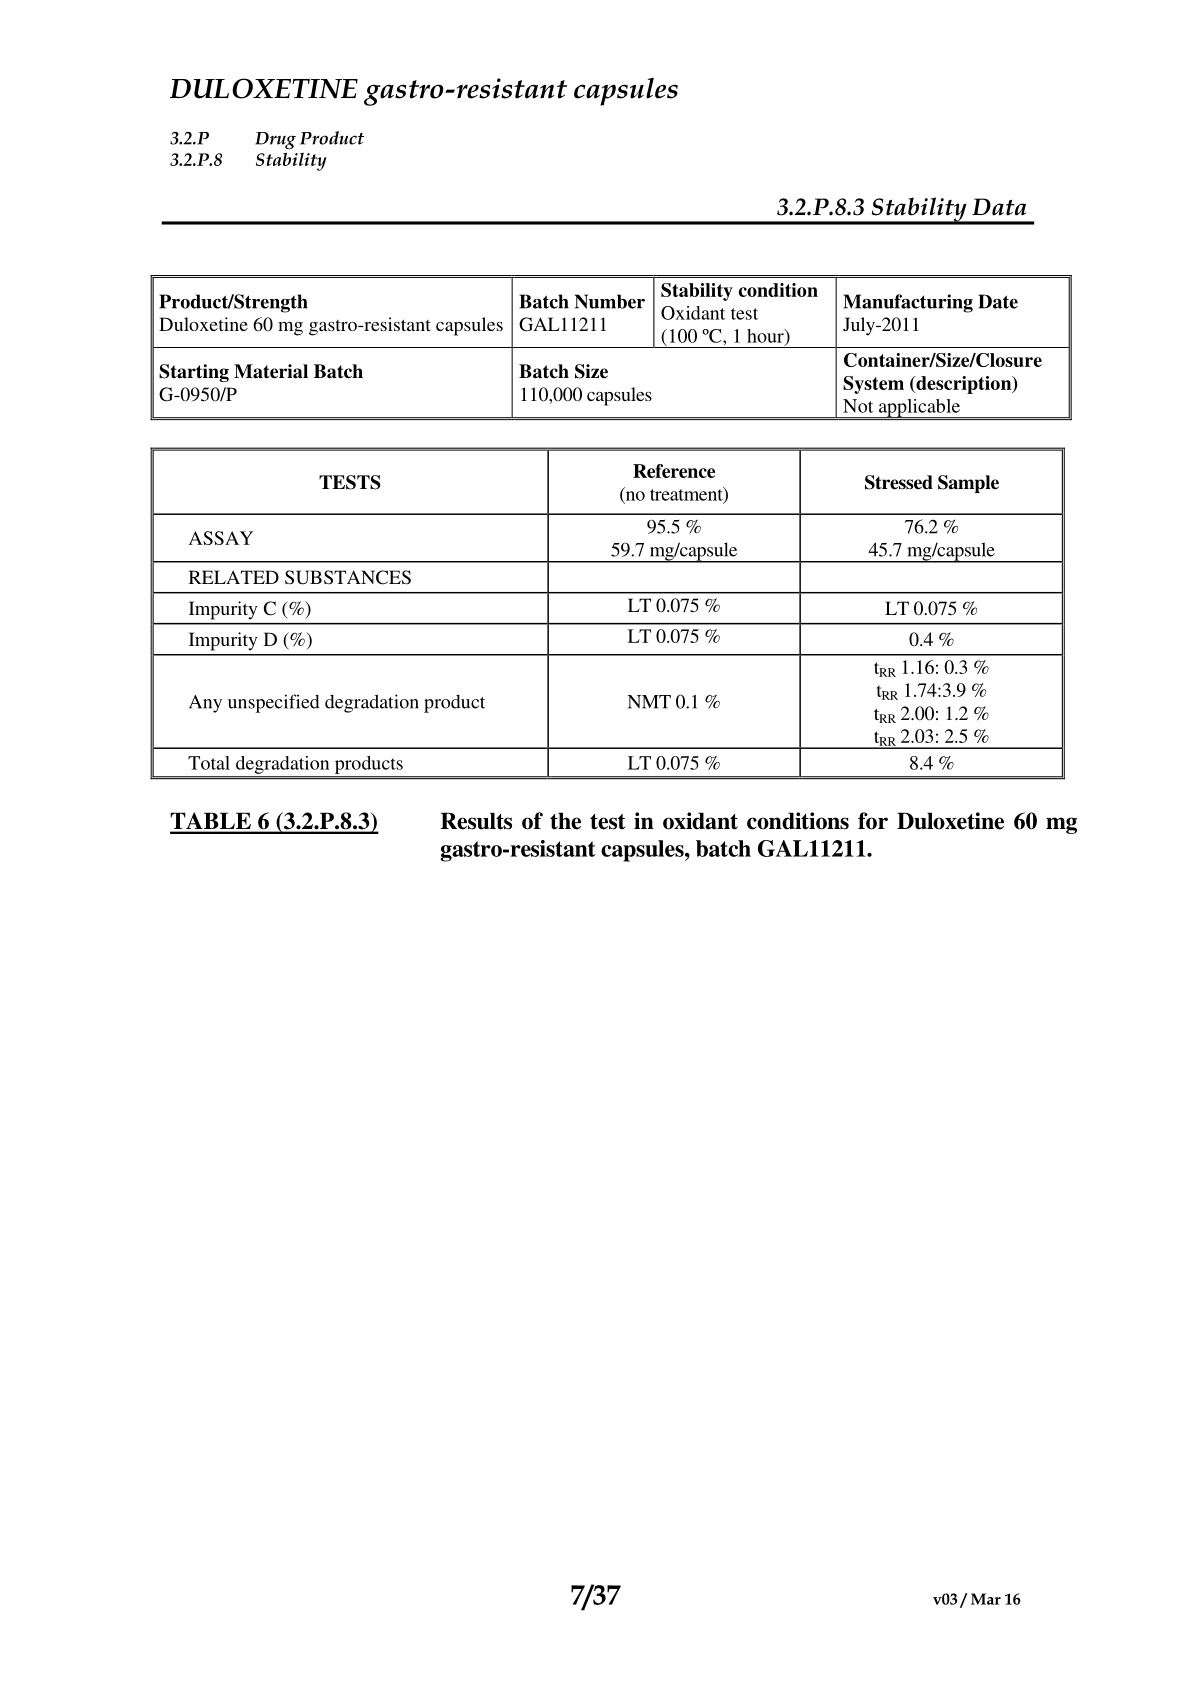full_lined: (150, 447, 1065, 780)
merged_cells: (150, 274, 1072, 421)
